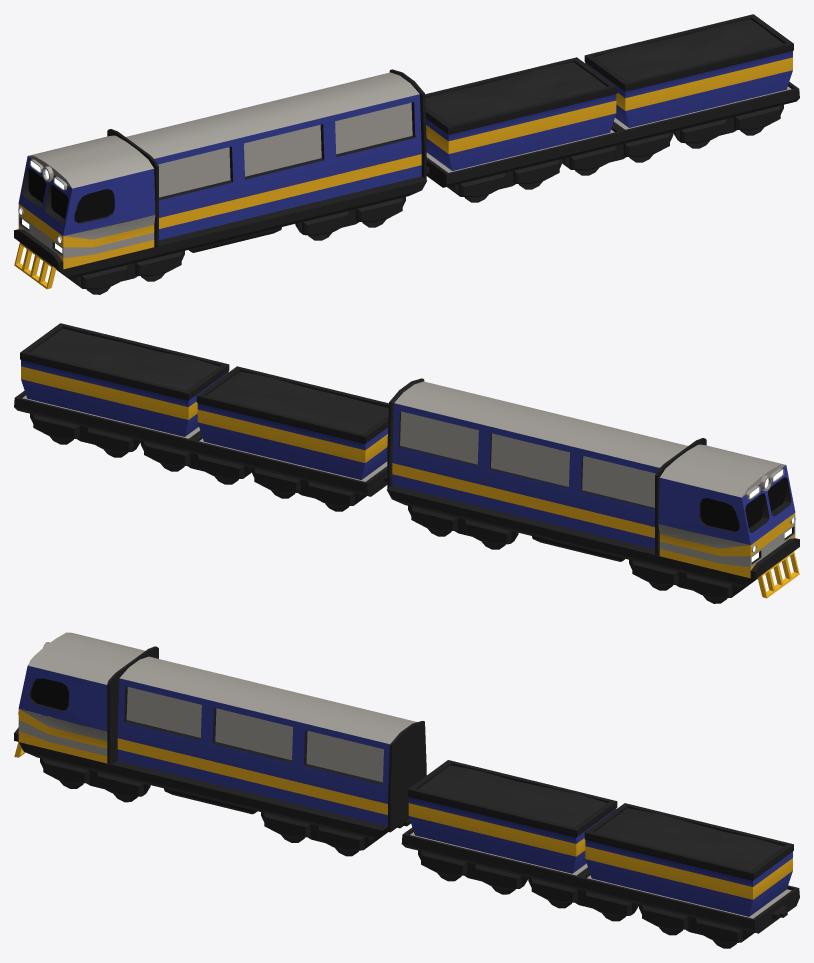
The model's file is train.fbx.
3 renders of one model, top to bottom at view 1: azimuth 30°, elevation 25°; view 2: azimuth 150°, elevation 25°; view 3: azimuth 330°, elevation 25°, orthographic.
Visible parts, largest first — view 1: transport, cargo; view 2: transport, cargo; view 3: transport, cargo.
Boxes of the visible parts, bbox=[...] form: transport: bbox=[14, 69, 427, 294]; cargo: bbox=[425, 14, 799, 202]; transport: bbox=[386, 378, 799, 603]; cargo: bbox=[14, 323, 388, 511]; transport: bbox=[14, 632, 426, 856]; cargo: bbox=[401, 760, 799, 948].
Bounding box in the file's own units: 3316 × 540 × 374.
